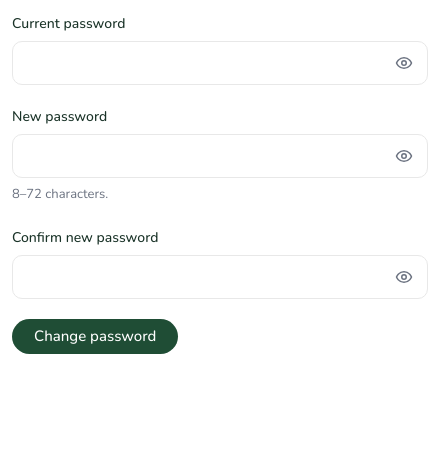
Scenario: ChangePasswordFormComponent › changes the password and says other devices were signed out
Type "old-password" into the password field labelled "Current password".
click(220, 63); type("old-password")  # box [12,41,428,85]
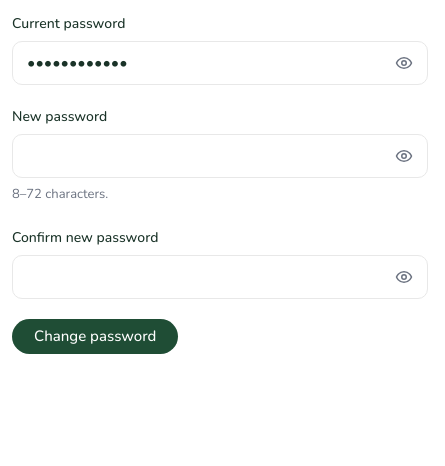
Type "new-password" into the password field with id "new-password".
click(220, 156); type("new-password")  # box [12,134,428,178]
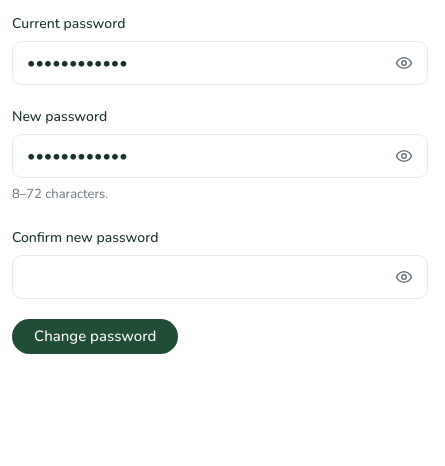
Type "new-password" into the password field labelled "Confirm new password".
click(220, 277); type("new-password")  # box [12,255,428,299]
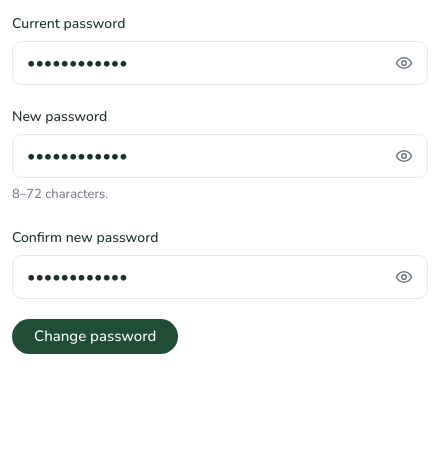
Submit the form
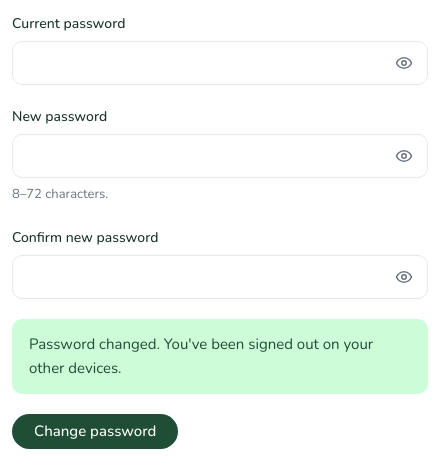
Now the text "signed out on your other devices" is shown, box [29,334,373,378]
Now the password field with id "new-password" is empty, box [12,134,428,178]
